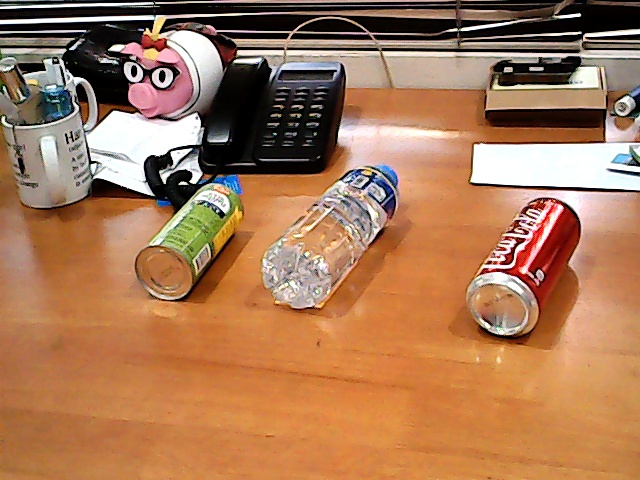Cola: (447, 177, 595, 352)
Pine Juice: (129, 158, 252, 315)
Summit Water: (250, 143, 411, 325)
